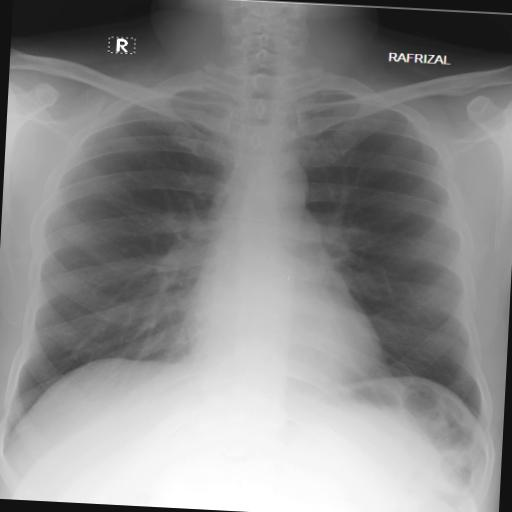normal: (0, 26, 510, 458)
